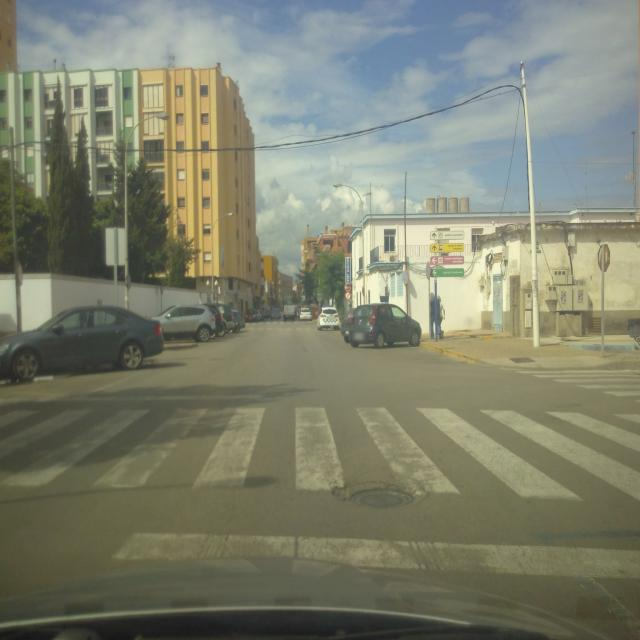car: (0, 304, 165, 383), (346, 302, 422, 348), (149, 304, 217, 343), (201, 303, 227, 337), (317, 307, 341, 331), (220, 306, 238, 332), (282, 304, 296, 322), (299, 307, 313, 322), (261, 307, 272, 320)
